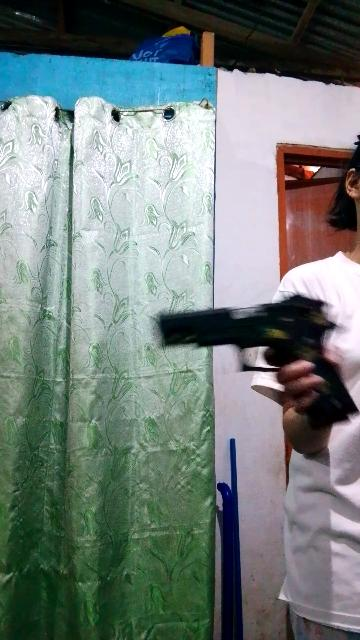pistol: (144, 294, 360, 438)
